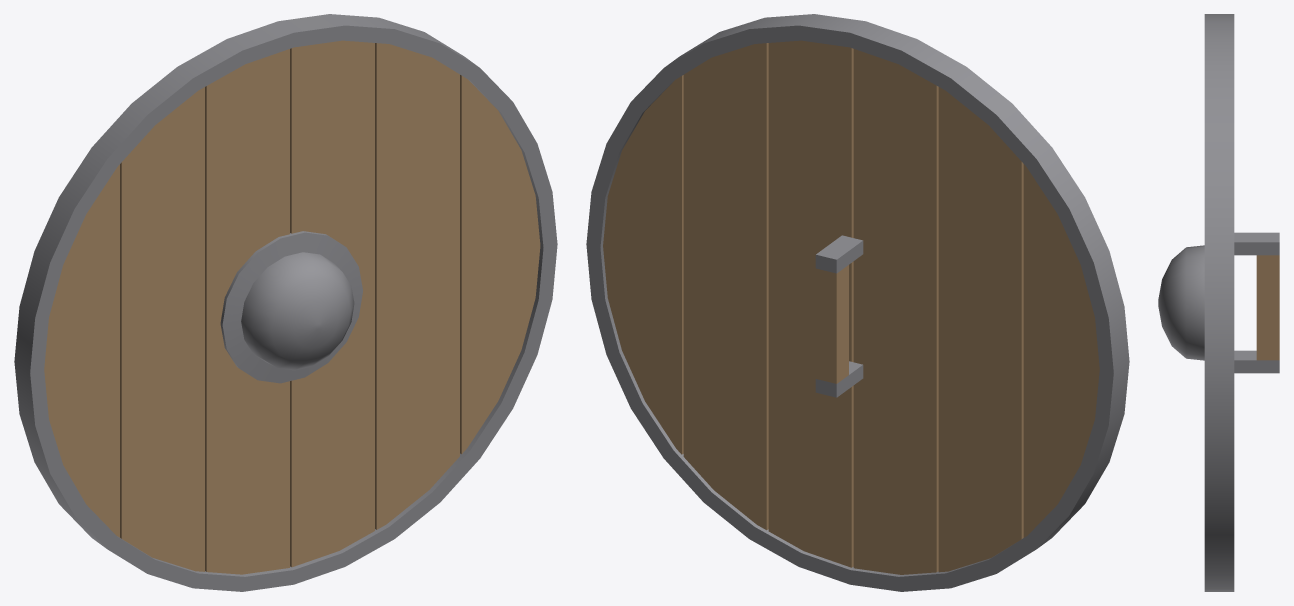
File: shield_round.glb
The picture shows the model from 3 angles, left to right: view 1: azimuth 30°, elevation 25°; view 2: azimuth 150°, elevation 25°; view 3: azimuth 270°, elevation 25°; orthographic projection. The views are drawn at different scales.
Visible parts, largest first — view 1: OUT; view 2: OUT; view 3: OUT.
Boxes of the visible parts, x1=… form: OUT: x1=14, y1=14, x2=557, y2=591; OUT: x1=586, y1=14, x2=1129, y2=591; OUT: x1=1158, y1=14, x2=1279, y2=591.
Bounding box in the file's own units: 0.6 × 0.6 × 0.126.
